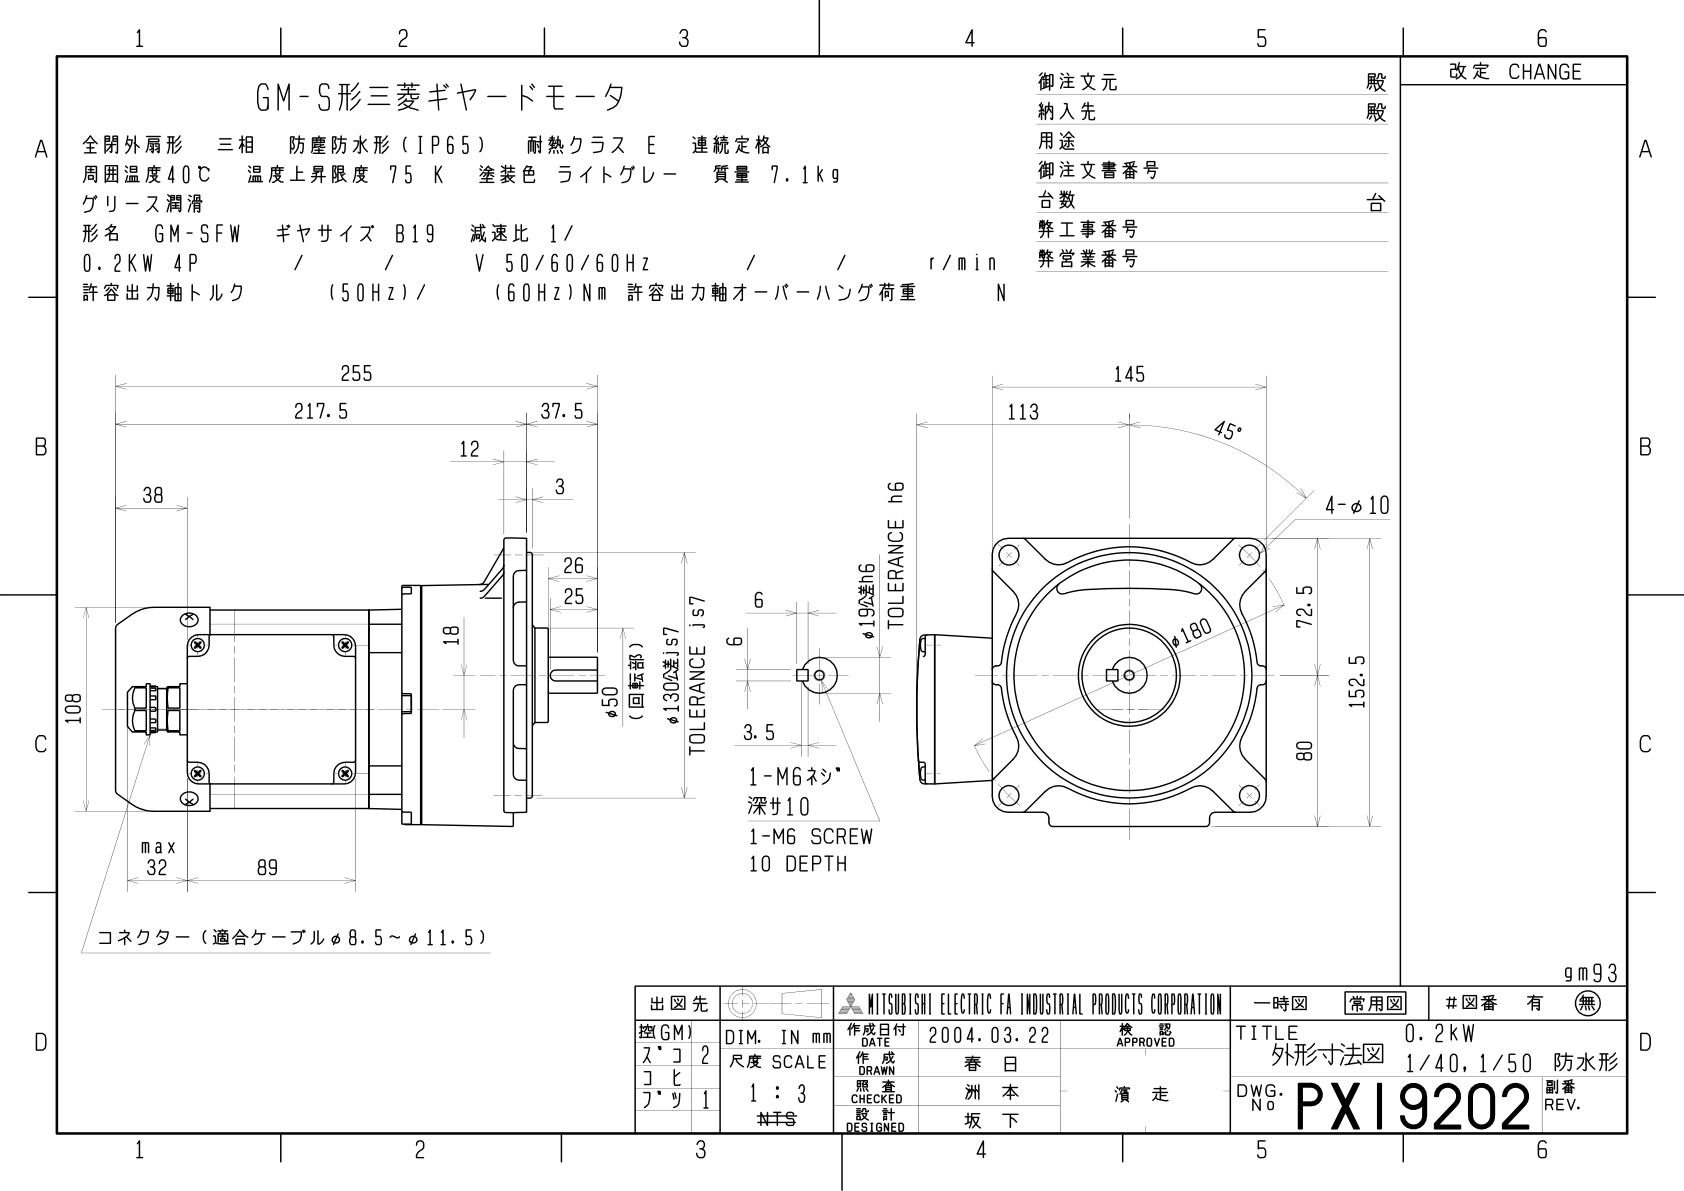GM_S_IP65＿三相_フランジ: (61, 349, 1399, 971)
